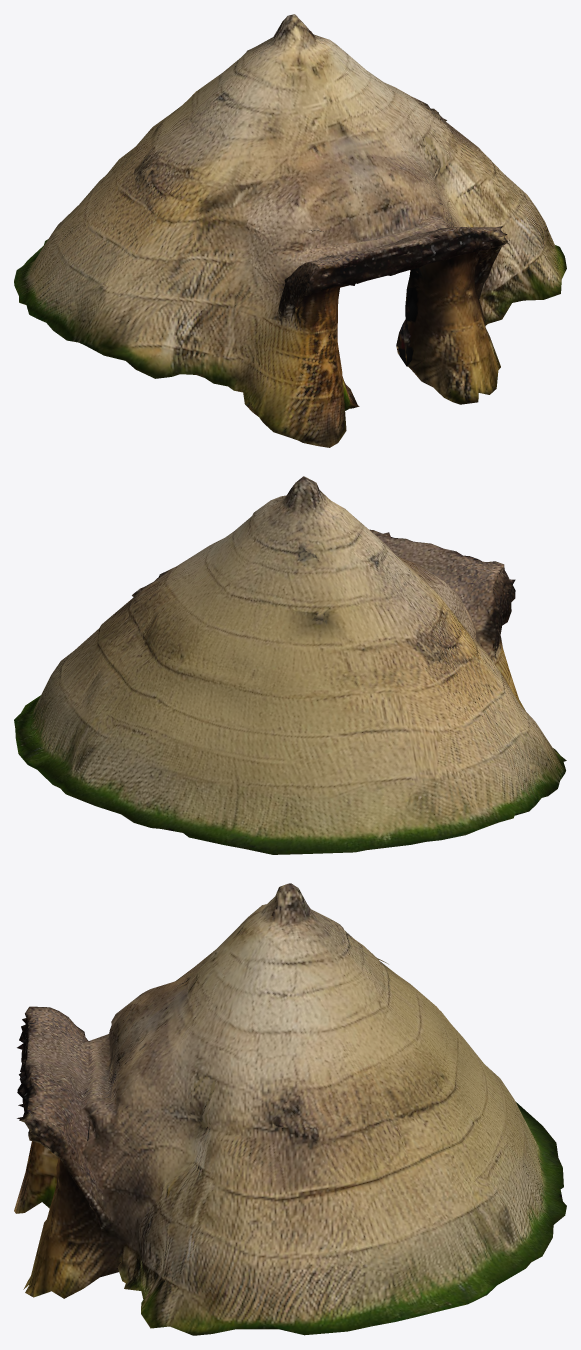
File: 1_Pit_House.fbx
The picture shows the model from 3 angles, top to bottom: view 1: azimuth 30°, elevation 25°; view 2: azimuth 150°, elevation 25°; view 3: azimuth 270°, elevation 25°; orthographic projection. The views are drawn at different scales.
Parts seen in each view (by area): view 1: Pit_House.001; view 2: Pit_House.001; view 3: Pit_House.001.
Boxes of the visible parts, x1=… form: Pit_House.001: x1=14, y1=14, x2=566, y2=447; Pit_House.001: x1=14, y1=476, x2=566, y2=854; Pit_House.001: x1=14, y1=883, x2=566, y2=1335.
Bounding box in the file's own units: 99.97 × 62.94 × 84.28.
1 material, 1 textured.
